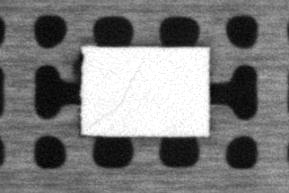DIE_CRACK: (89, 67, 136, 126)
